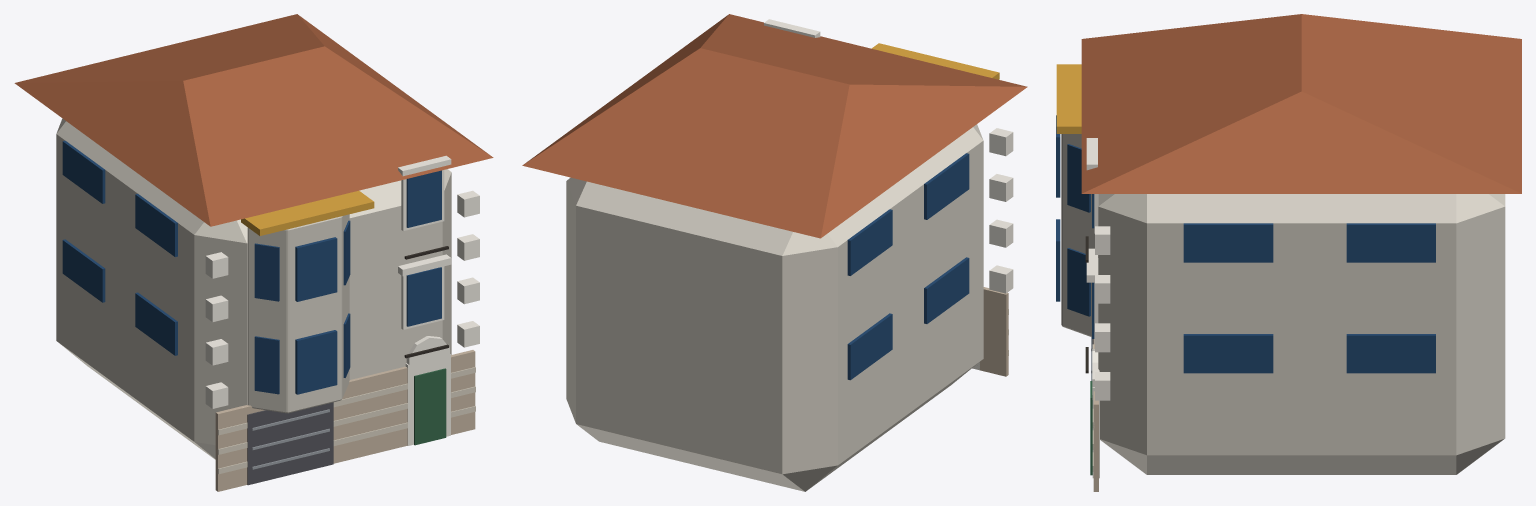
The model's file is marina_w9_hip.glb.
3 views of the same model, side by side, from view 1: azimuth 30°, elevation 25°; view 2: azimuth 150°, elevation 25°; view 3: azimuth 270°, elevation 25° (orthographic). The views are drawn at different scales.
Parts seen in each view (by area): view 1: hip, walls, bay, base, gdoor, scallop, bw, bw.001, edoor, wgl, wgl.001, sb.002 (+22 smaller); view 2: walls, hip, base, sb.002, sb, sb.004, sb.006, scallop, quoin.003, quoin, quoin.001, quoin.002; view 3: walls, hip, sb.005, sb.001, sb.007, sb.003, bay, scallop, bwa.001, bwa.003, base.
Part boxes in pixels (x1,y1,x2,y2): hip: (14, 14, 493, 226); walls: (56, 118, 451, 459); bay: (247, 214, 349, 413); base: (215, 350, 475, 491); gdoor: (247, 402, 333, 485); scallop: (241, 190, 374, 235); bw: (295, 330, 337, 394); bw.001: (295, 237, 337, 301); edoor: (414, 368, 446, 445); wgl: (406, 267, 441, 326); wgl.001: (406, 170, 441, 227); sb.002: (62, 239, 105, 302); walls: (566, 124, 983, 491); hip: (522, 14, 1027, 238); base: (973, 287, 1008, 376); sb.002: (847, 313, 892, 380); sb: (924, 257, 969, 323); sb.004: (924, 153, 969, 219); sb.006: (847, 209, 892, 275); scallop: (872, 43, 999, 79); quoin.003: (989, 128, 1013, 156); quoin: (989, 265, 1013, 293); quoin.001: (989, 219, 1013, 247); quoin.002: (989, 174, 1013, 201); walls: (1098, 194, 1505, 474); hip: (1081, 14, 1521, 193); sb.005: (1183, 223, 1273, 262); sb.001: (1183, 334, 1273, 373); sb.007: (1346, 223, 1435, 262); sb.003: (1346, 334, 1435, 373); bay: (1061, 134, 1098, 336); scallop: (1056, 64, 1081, 133); bwa.001: (1067, 248, 1090, 316); bwa.003: (1067, 144, 1090, 212); base: (1093, 339, 1098, 491).
Bounding box in the file's own units: 9.9 × 11 × 12.59.
